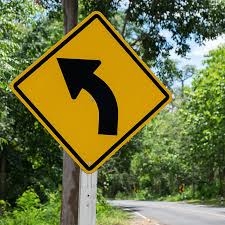curveLeft: (14, 11, 176, 171)
